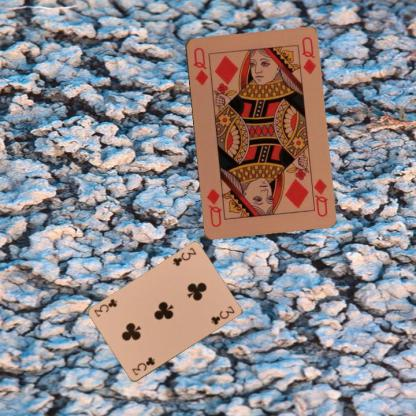3c: (129, 354, 156, 376), (170, 245, 197, 267)
Qd: (307, 174, 329, 218), (191, 44, 209, 86)
